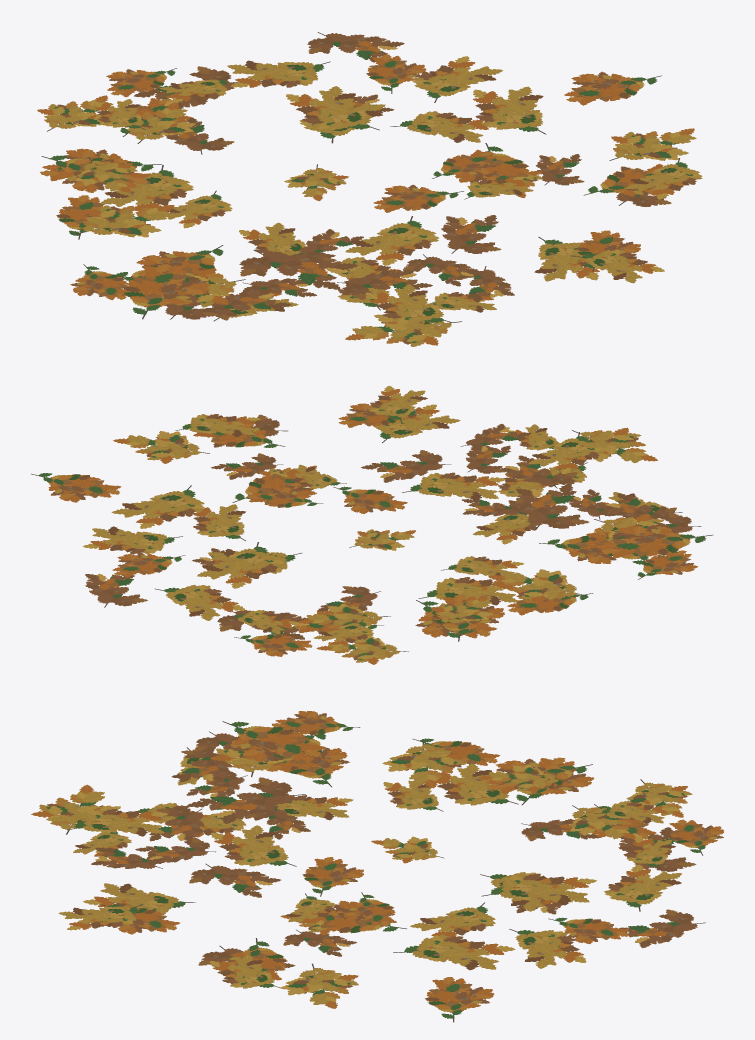
The model's file is chene_jeune_a.fbx.
3 views of the same model, one above another, from view 1: azimuth 30°, elevation 25°; view 2: azimuth 150°, elevation 25°; view 3: azimuth 270°, elevation 25° (orthographic). The views are drawn at different scales.
Visible parts, largest first — view 1: chene_jeune_a_feuilles_sol; view 2: chene_jeune_a_feuilles_sol; view 3: chene_jeune_a_feuilles_sol.
Part boxes in pixels (x1,y1,x2,y2): chene_jeune_a_feuilles_sol: [37, 32, 702, 346]; chene_jeune_a_feuilles_sol: [31, 385, 713, 664]; chene_jeune_a_feuilles_sol: [31, 711, 723, 1022].
Size of what is drawn, in the model's own units: 2.79 by 0.00582 by 2.62.
